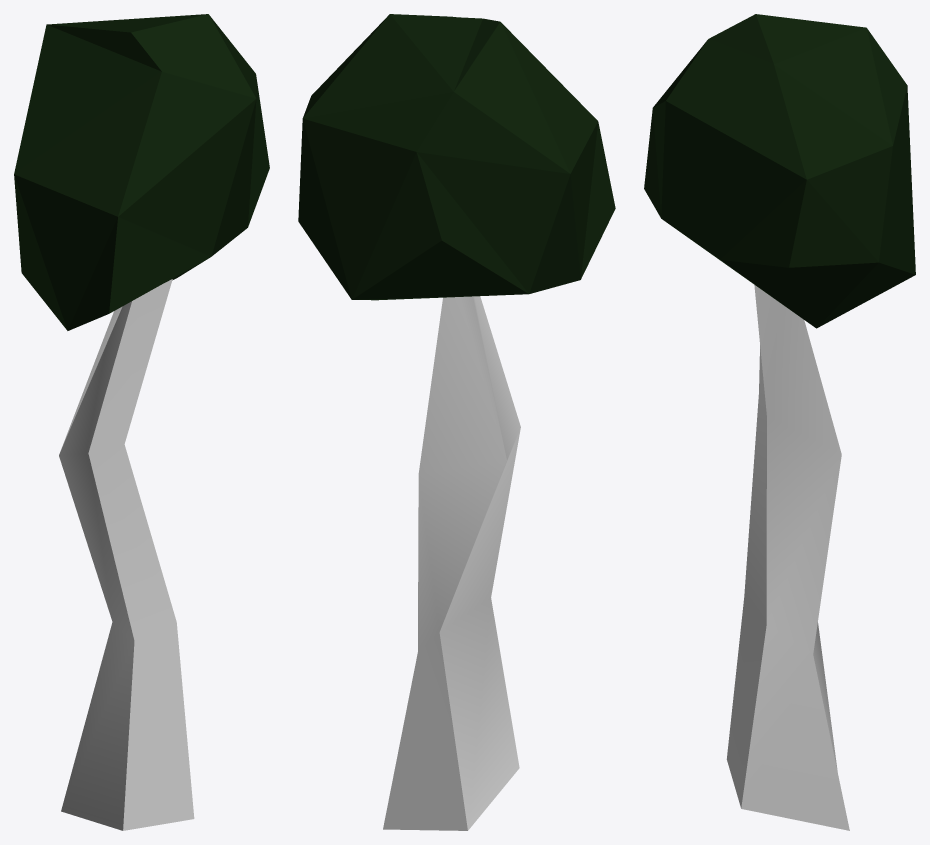
File: Baum.FBX
3 renders of one model, left to right at view 1: azimuth 30°, elevation 25°; view 2: azimuth 150°, elevation 25°; view 3: azimuth 270°, elevation 25°, orthographic. The views are drawn at different scales.
Parts seen in each view (by area): view 1: GeoSphere002, Box001; view 2: GeoSphere002, Box001; view 3: GeoSphere002, Box001.
Boxes of the visible parts, left/top/right/bottom form: GeoSphere002: left=14, top=14, right=269, bottom=330; Box001: left=59, top=279, right=194, bottom=830; GeoSphere002: left=298, top=14, right=615, bottom=300; Box001: left=383, top=296, right=520, bottom=830; GeoSphere002: left=644, top=14, right=915, bottom=328; Box001: left=726, top=285, right=849, bottom=830.
Size of the model in its own units: 26.7 by 80.26 by 25.01.
